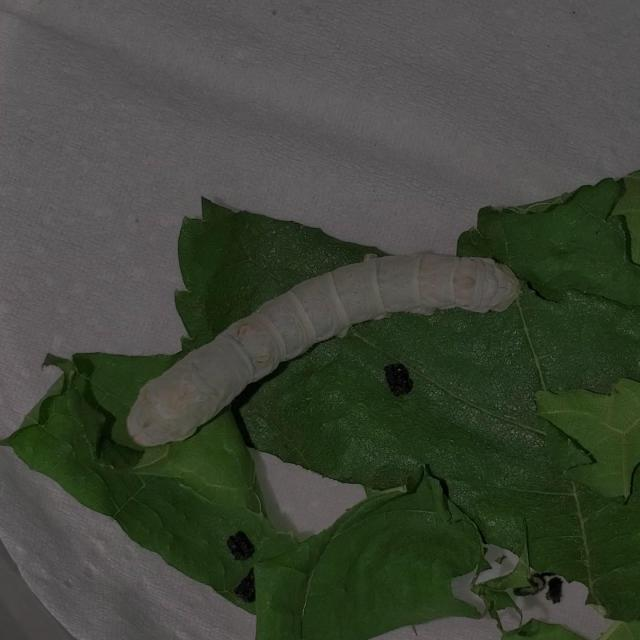Healthy: (107, 224, 535, 471)
